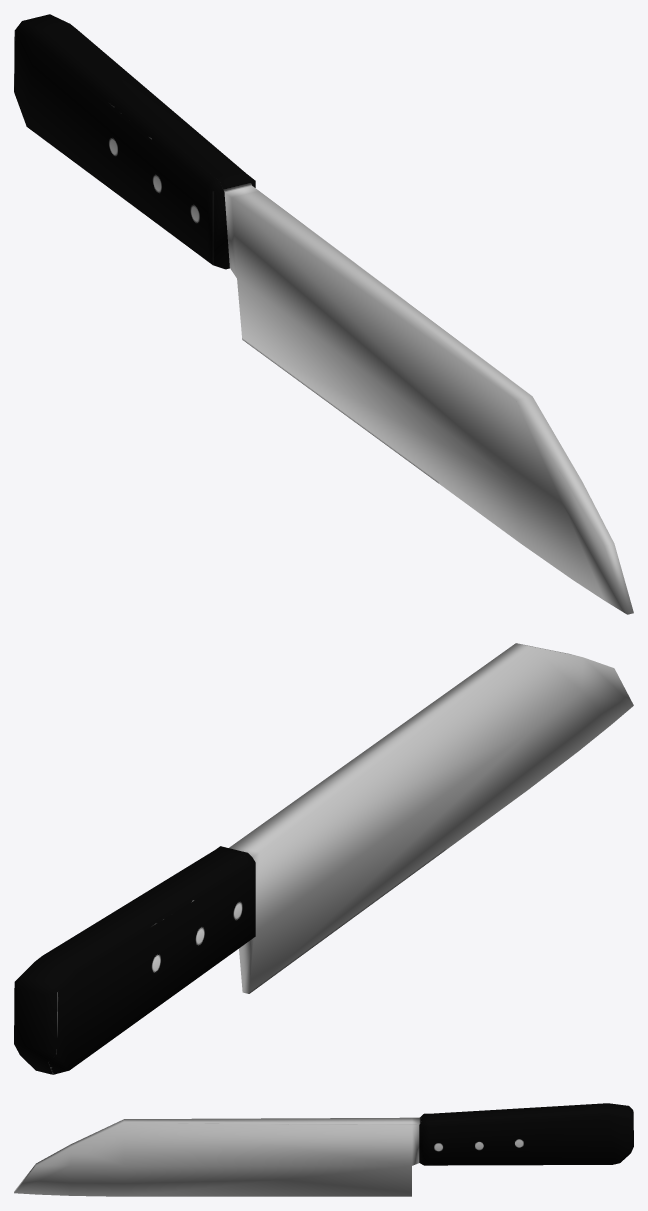
File: Knife.FBX
3 renders of one model, top to bottom at view 1: azimuth 30°, elevation 25°; view 2: azimuth 150°, elevation 25°; view 3: azimuth 270°, elevation 25°, orthographic. The views are drawn at different scales.
Parts seen in each view (by area): view 1: Box001; view 2: Box001; view 3: Box001.
Boxes of the visible parts, x1=… form: Box001: x1=14, y1=14, x2=633, y2=614; Box001: x1=14, y1=643, x2=633, y2=1074; Box001: x1=14, y1=1103, x2=633, y2=1196.
Bounding box in the file's own units: 5.02 × 121 × 19.28.
Materials: 1 (1 with a texture image).
